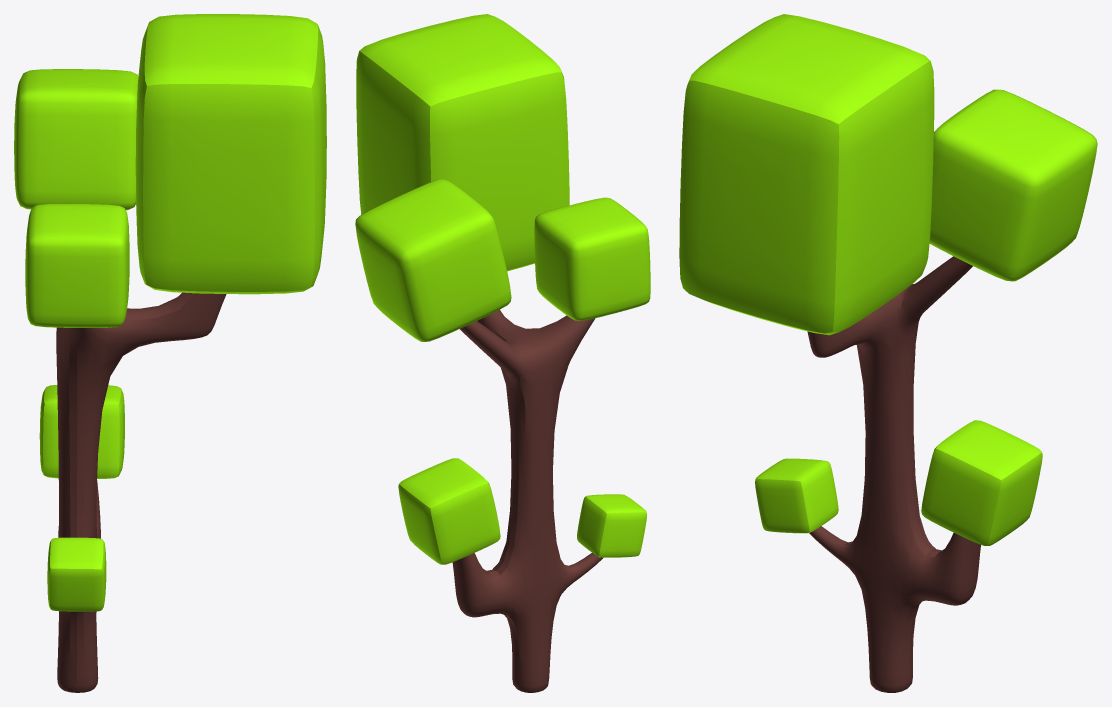
Rendered from tree.glb.
3 renders of one model, left to right at view 1: azimuth 30°, elevation 25°; view 2: azimuth 150°, elevation 25°; view 3: azimuth 270°, elevation 25°, orthographic. The views are drawn at different scales.
Parts seen in each view (by area): view 1: Cube.003, Cube, Cube.001, Cube.002, Cube.004, Cube.005; view 2: Cube.003, Cube, Cube.001, Cube.002, Cube.005, Cube.004; view 3: Cube.003, Cube, Cube.001, Cube.005, Cube.004.
Boxes of the visible parts, left/top/right/bottom form: Cube.003: left=135, top=14, right=326, bottom=294; Cube: left=56, top=292, right=226, bottom=692; Cube.001: left=14, top=69, right=138, bottom=210; Cube.002: left=25, top=204, right=129, bottom=327; Cube.004: left=47, top=537, right=106, bottom=611; Cube.005: left=39, top=385, right=124, bottom=478; Cube.003: left=356, top=14, right=569, bottom=271; Cube: left=452, top=310, right=603, bottom=692; Cube.001: left=355, top=179, right=511, bottom=341; Cube.002: left=534, top=197, right=650, bottom=320; Cube.005: left=398, top=458, right=500, bottom=564; Cube.004: left=577, top=494, right=646, bottom=557; Cube.003: left=679, top=14, right=934, bottom=335; Cube: left=807, top=256, right=980, bottom=692; Cube.001: left=929, top=89, right=1097, bottom=281; Cube.005: left=921, top=420, right=1042, bottom=545; Cube.004: left=755, top=458, right=838, bottom=533.
Bounding box in the file's own units: 2.1 × 4.24 × 2.32.
